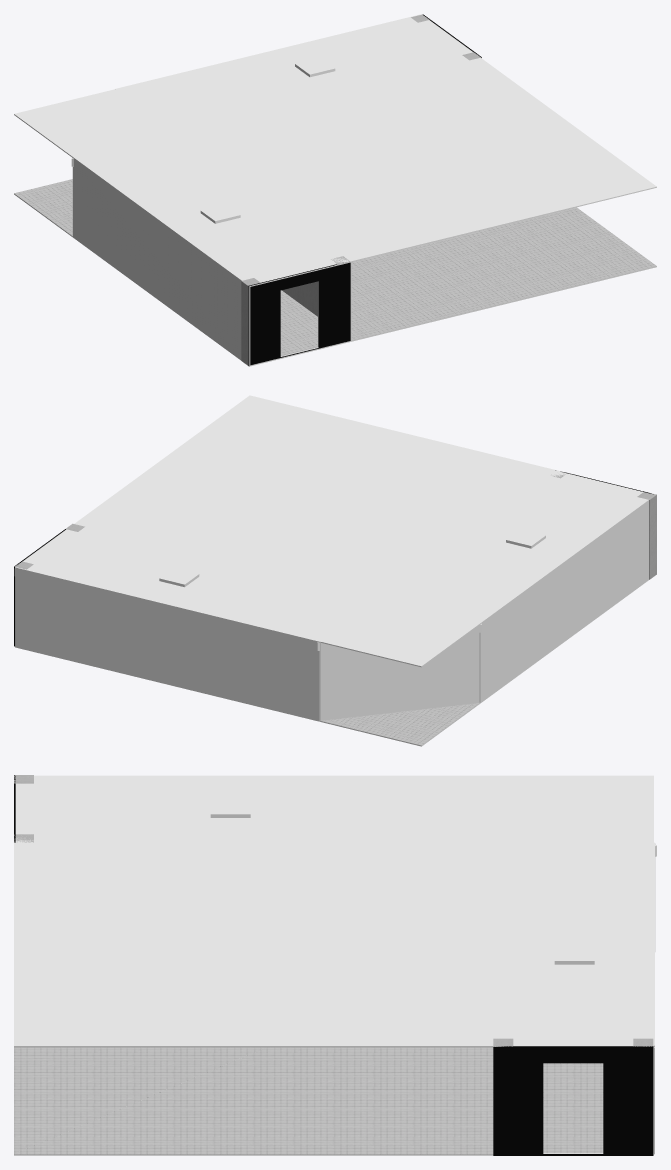
Rendered from Corner1_v3.fbx.
3 renders of one model, top to bottom at view 1: azimuth 30°, elevation 25°; view 2: azimuth 150°, elevation 25°; view 3: azimuth 270°, elevation 25°, orthographic. The views are drawn at different scales.
Visible parts, largest first — view 1: node_id29, node_id26 (×2), node_id47, node_id20, node_id50, node_id38; view 2: node_id29, node_id44, node_id47, node_id41, node_id26 (×2), node_id50; view 3: node_id29, node_id26 (×2), node_id23, node_id14, node_id17.
Part boxes in pixels (<box>): node_id29: <box>14,14,656,286</box>; node_id26 (×2): <box>14,179,656,366</box>; node_id47: <box>73,158,250,365</box>; node_id20: <box>248,262,350,365</box>; node_id50: <box>241,278,260,365</box>; node_id38: <box>282,281,317,316</box>; node_id29: <box>15,395,648,667</box>; node_id44: <box>15,567,320,721</box>; node_id47: <box>479,500,648,702</box>; node_id41: <box>319,632,479,721</box>; node_id26 (×2): <box>15,579,649,746</box>; node_id50: <box>637,492,656,579</box>; node_id29: <box>14,775,653,1047</box>; node_id26 (×2): <box>14,1047,653,1155</box>; node_id23: <box>493,1046,653,1155</box>; node_id14: <box>210,797,250,817</box>; node_id17: <box>554,944,594,964</box>.
Bounding box in the file's own units: 0.512 × 0.0992 × 0.5108.
34 materials, 16 textured.
